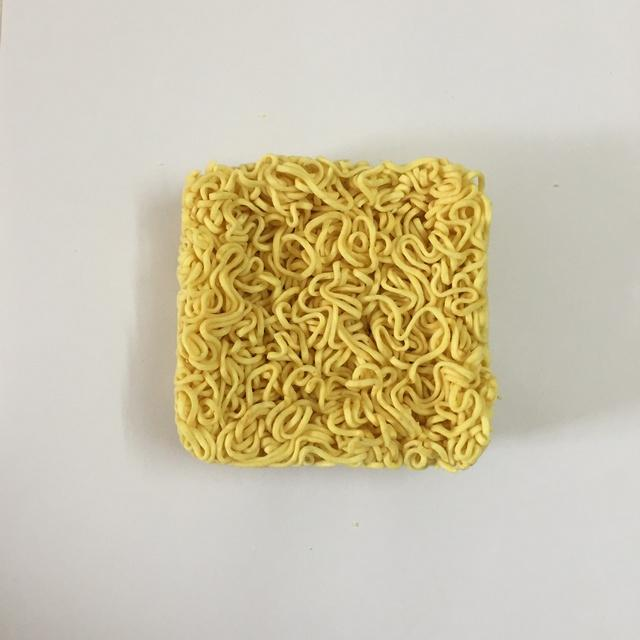noodles: (168, 147, 500, 477)
